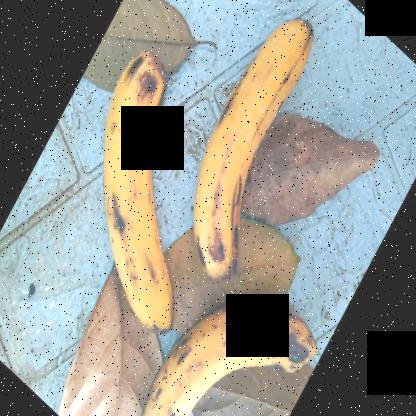overripe: (184, 24, 316, 284), (131, 294, 326, 415)
ripe: (83, 27, 186, 348)
